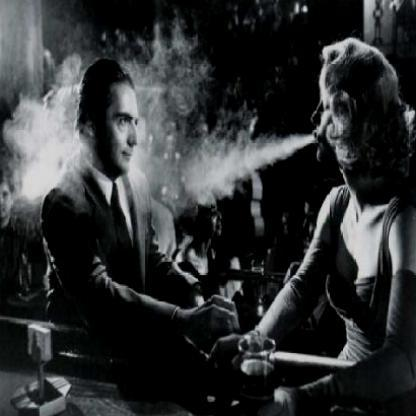person: (302, 36, 415, 407), (46, 63, 178, 324)
smoke: (3, 47, 82, 210), (181, 126, 290, 210), (139, 25, 206, 130)
